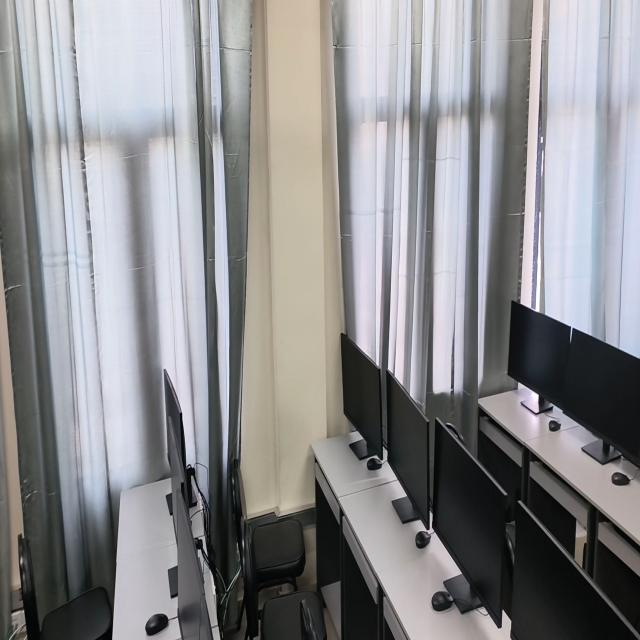Chair: (13, 534, 108, 640), (224, 455, 309, 571), (226, 553, 317, 640)
Monitor: (521, 494, 627, 640), (436, 422, 510, 623), (573, 321, 640, 465), (331, 311, 382, 461), (386, 356, 428, 523), (510, 293, 569, 407), (175, 488, 210, 640), (162, 372, 190, 436), (166, 421, 184, 494)
Mouse: (431, 581, 452, 621), (146, 605, 168, 639), (408, 524, 436, 548), (367, 451, 385, 478), (542, 417, 567, 435), (606, 468, 638, 482)
